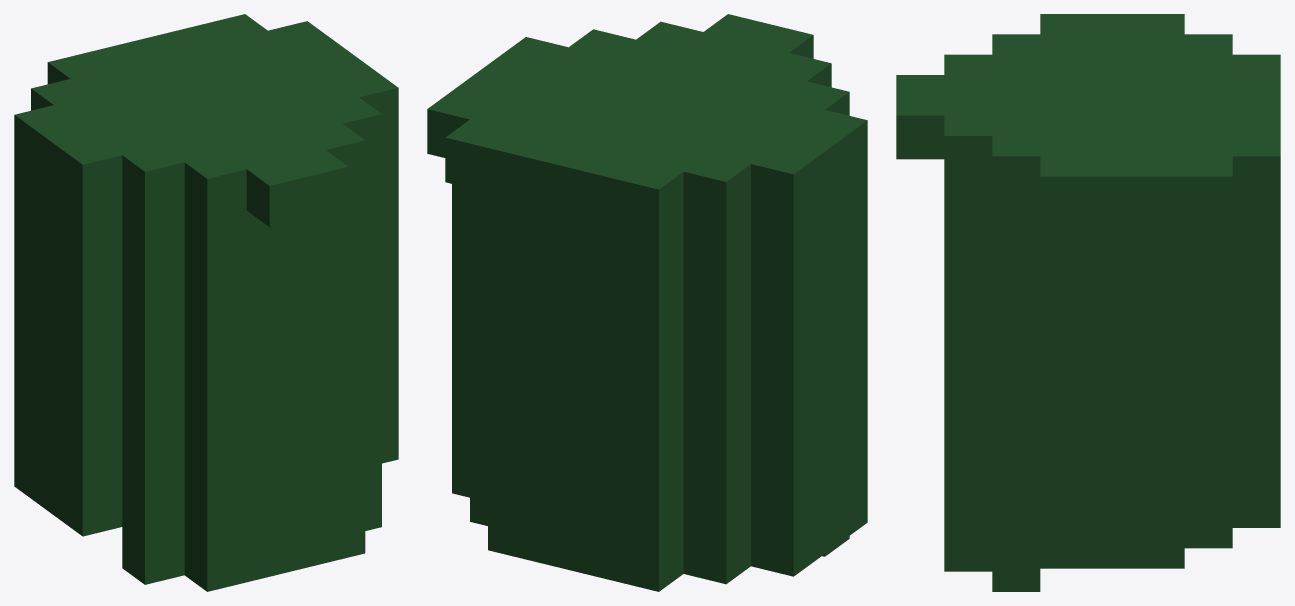
Rendered from EnemySkeleton2-8.obj.
3 views of the same model, side by side, from view 1: azimuth 30°, elevation 25°; view 2: azimuth 150°, elevation 25°; view 3: azimuth 270°, elevation 25° (orthographic). The views are drawn at different scales.
Size of the model in its own units: 0.8 by 1 by 0.8.
Materials: 1 (1 with a texture image).
